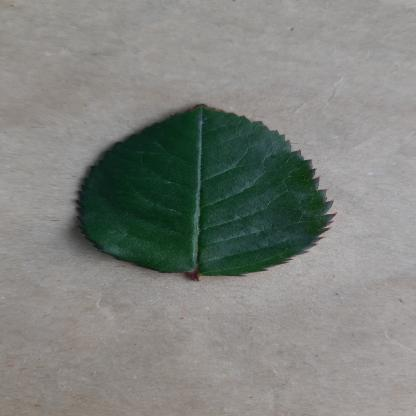normal: (69, 103, 339, 277)
